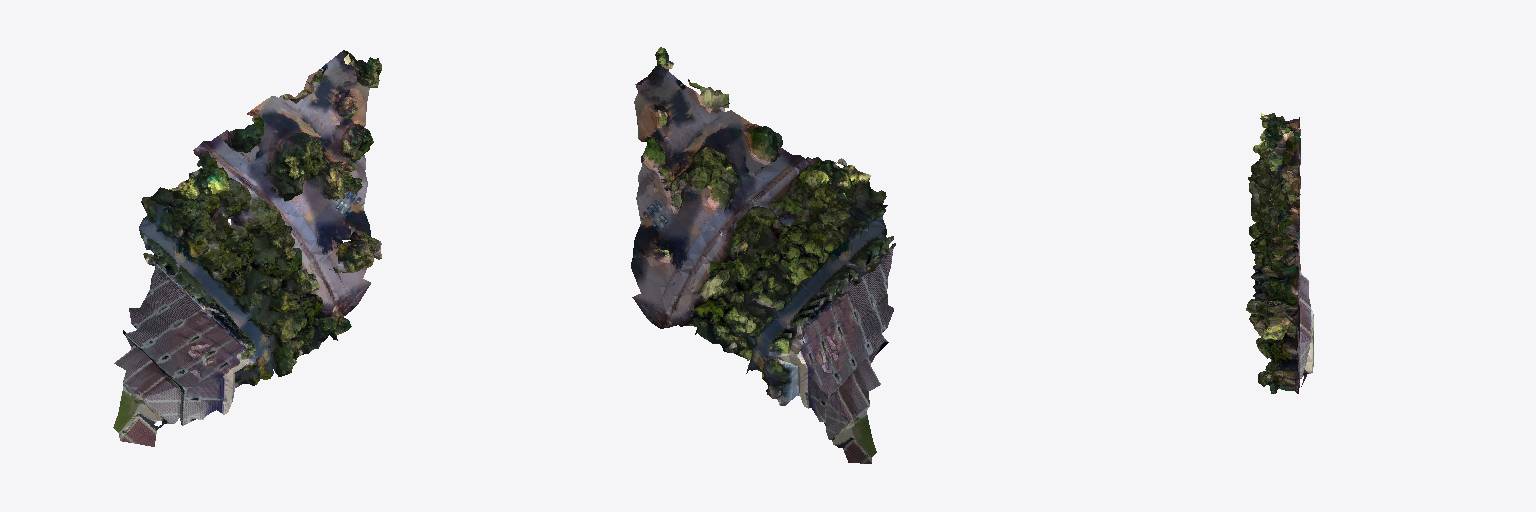
The picture shows the model from 3 angles: view 1: azimuth 30°, elevation 25°; view 2: azimuth 150°, elevation 25°; view 3: azimuth 270°, elevation 25°; orthographic projection.
Size of the model in its own units: 141 by 186 by 32.46.
Materials: 1 (1 with a texture image).